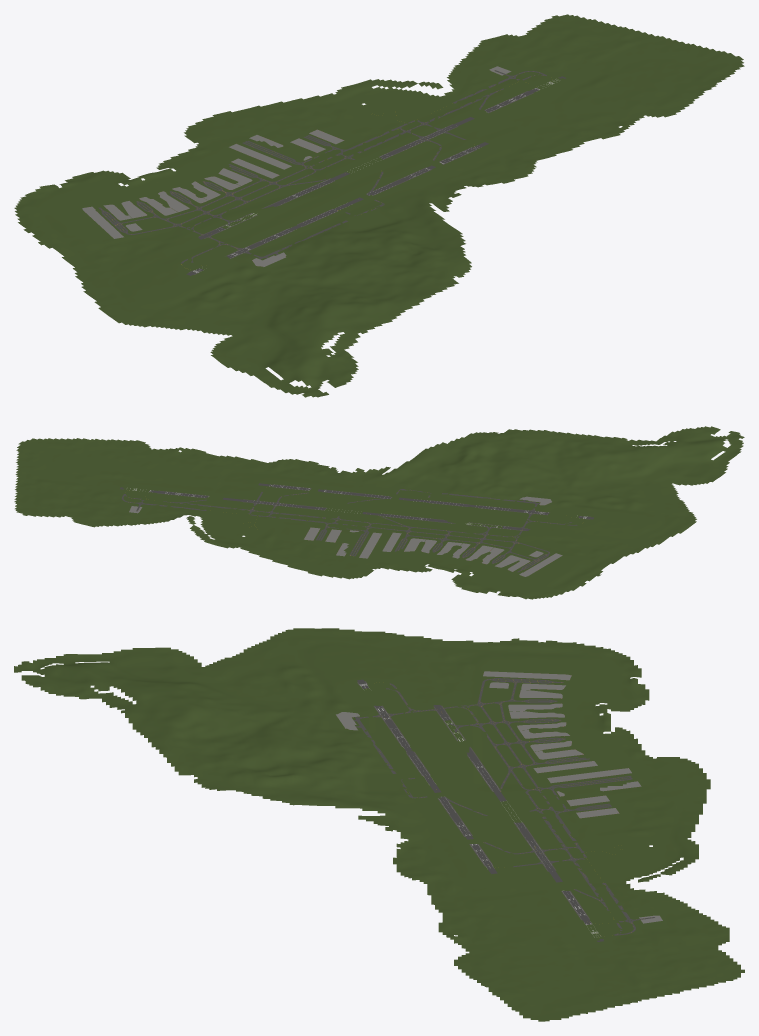
The model's file is sbgr_placa_campo.glb.
The picture shows the model from 3 angles, top to bottom: view 1: azimuth 30°, elevation 25°; view 2: azimuth 150°, elevation 25°; view 3: azimuth 270°, elevation 25°; orthographic projection. The views are drawn at different scales.
Parts seen in each view (by area): view 1: sbgr_placa_campo; view 2: sbgr_placa_campo; view 3: sbgr_placa_campo.
Part boxes in pixels (<box>): sbgr_placa_campo: <box>14,14,744,397</box>; sbgr_placa_campo: <box>14,426,744,599</box>; sbgr_placa_campo: <box>14,628,744,1021</box>.
Size of the model in its own units: 6125 by 84.12 by 4775.
